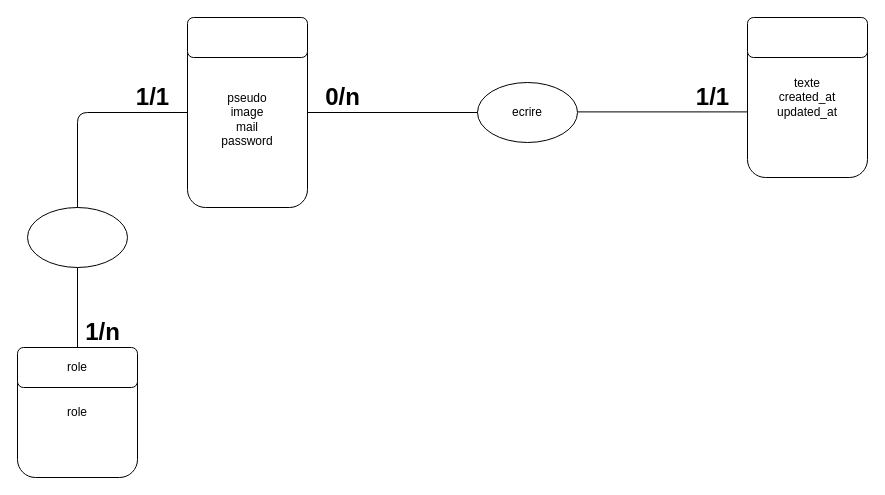
Image size: 885x495. Some labels were removed from this diagram. Each missing label, with the centre of its shape:
messages: pixel 807 37
posseder: pixel 77 237
users: pixel 247 37
